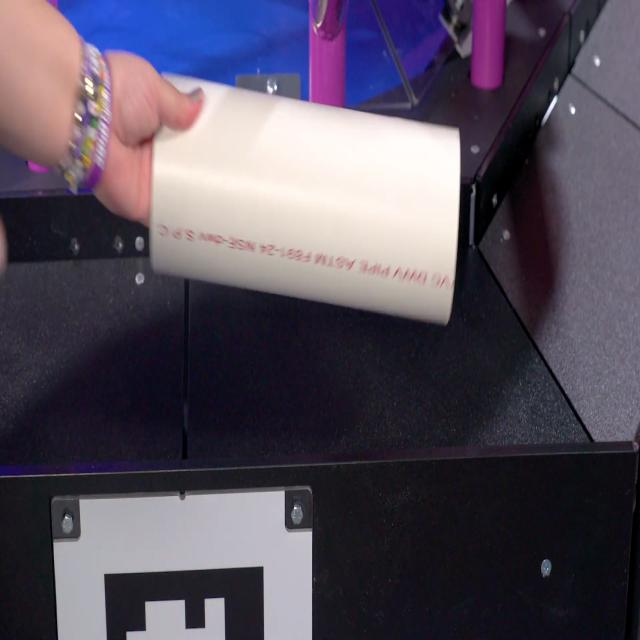Coral: (147, 69, 462, 328)
